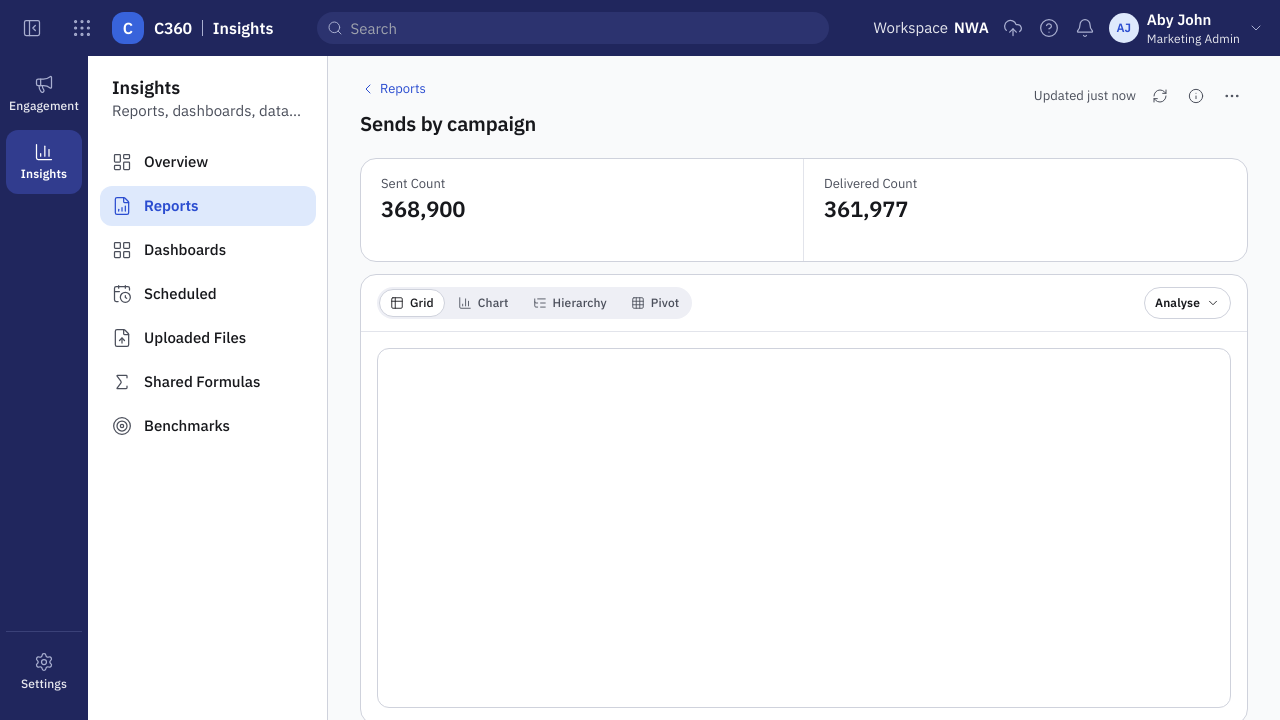
Test case: Report Details opens from its button and from More Actions, and says who owns it, its data and its version
Expected: the heading "Sends by campaign" is shown, [360,110,536,138]
Click the button named "Report Details" at x=1196, y=96, box [1180,80,1212,112]
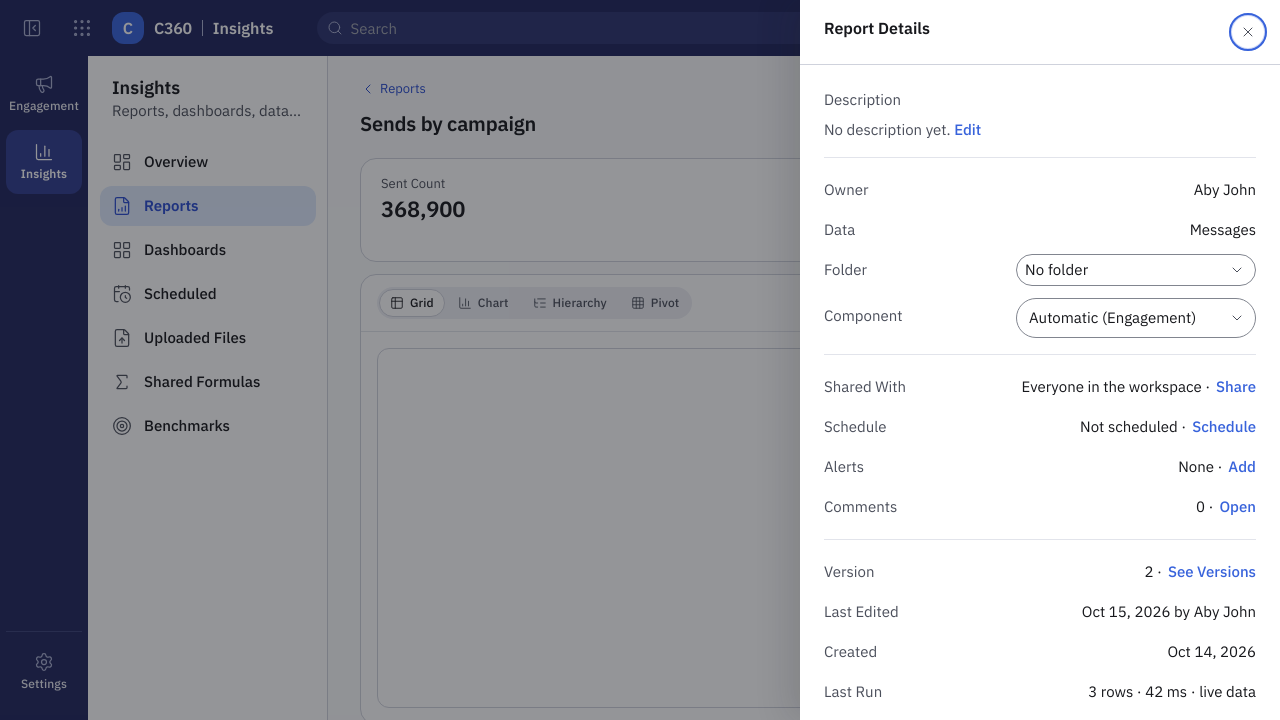
Expected: the text "Aby John" is shown, [1194,179,1256,201]
Expected: the text "Everyone in the workspace · Share" is shown, [1022,376,1256,398]
Expected: the text "No description yet." is shown, [824,120,951,139]
Click the button named "Close" at x=1248, y=32, box [1232,16,1264,48]
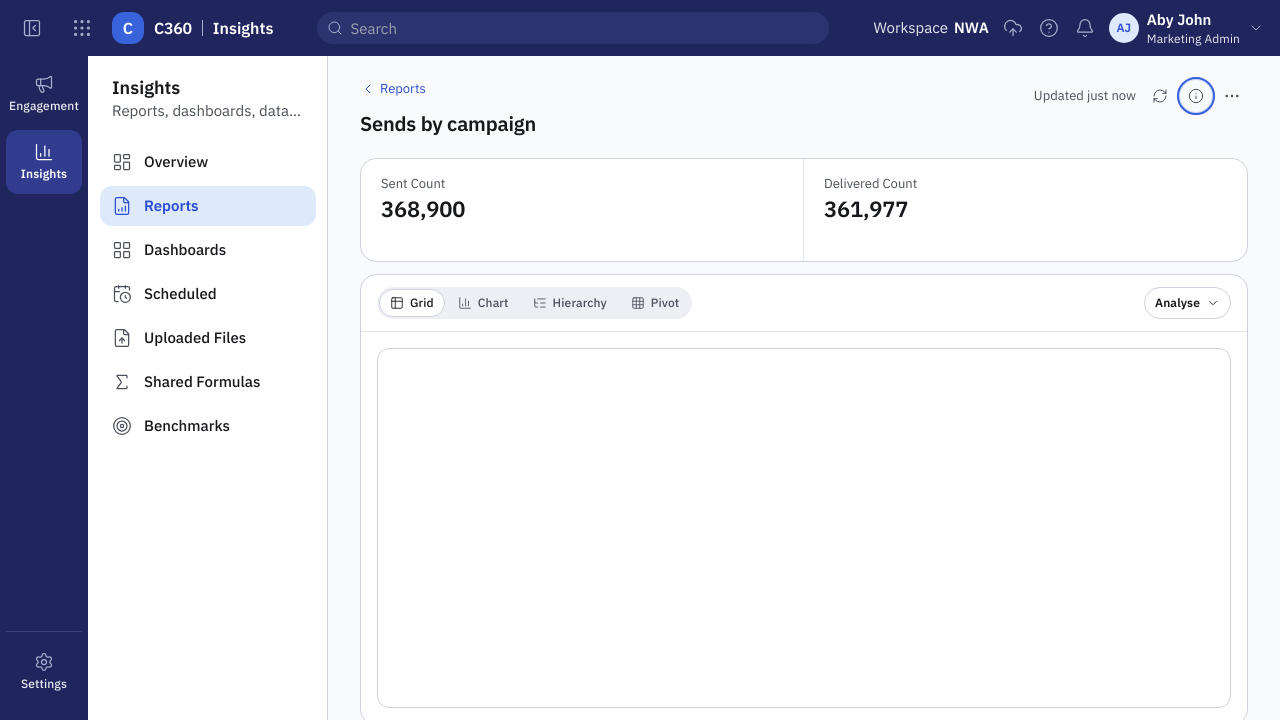
Expected: the heading "Report Details" is gone
Click the button named "More actions" at x=1232, y=96, box [1216,80,1248,112]
(page scrolled)
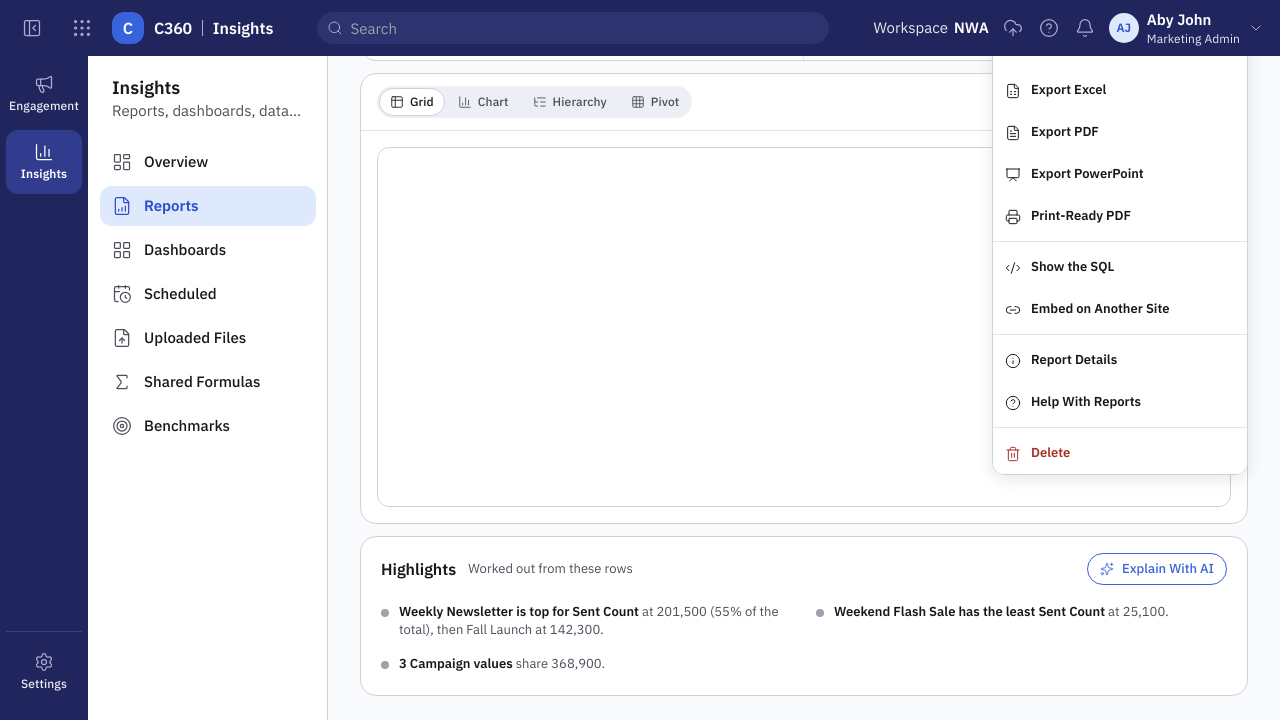
Click the menu item "Report Details" at x=1120, y=360, box [993,339,1247,381]
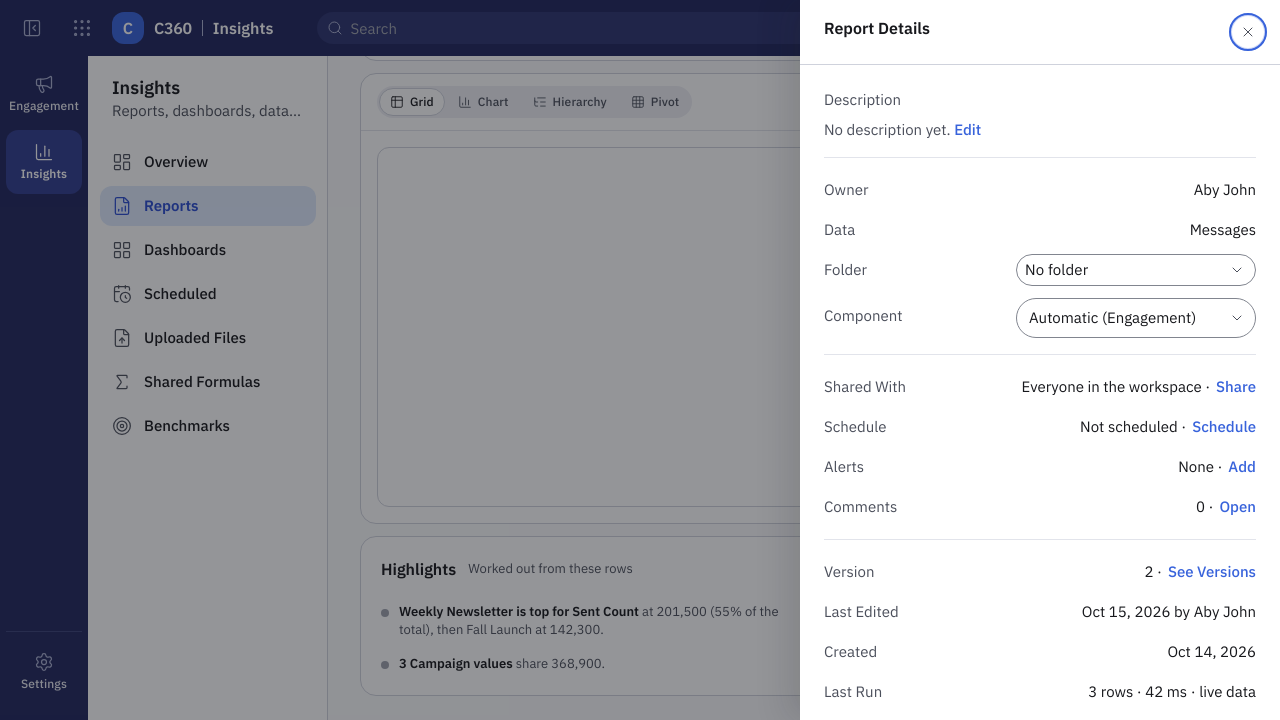
Expected: the dialog "Report Details" is shown, [800,0,1279,719]
